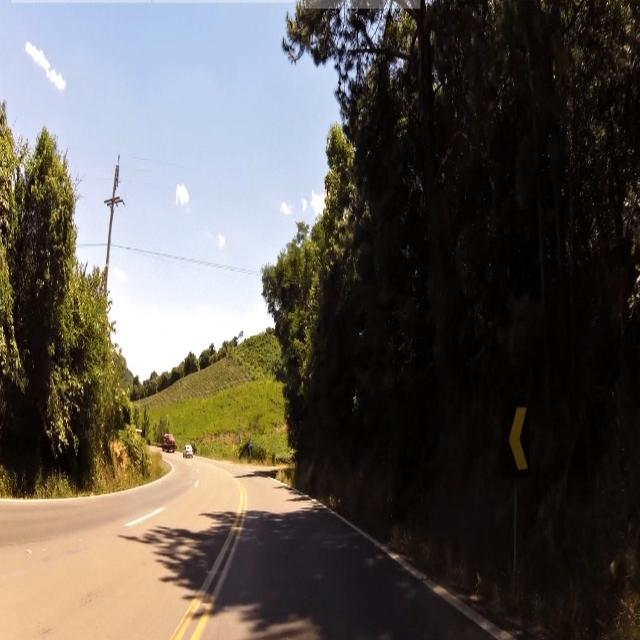Del: (506, 404, 530, 478)
